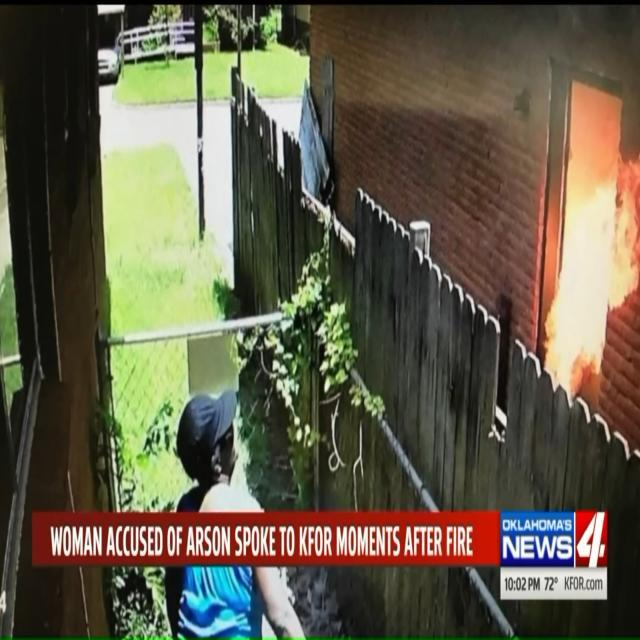Fire: (548, 155, 640, 385)
